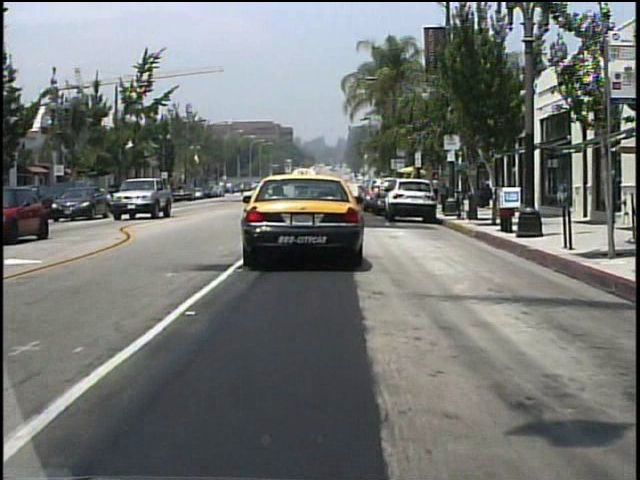person: (428, 176, 440, 203)
